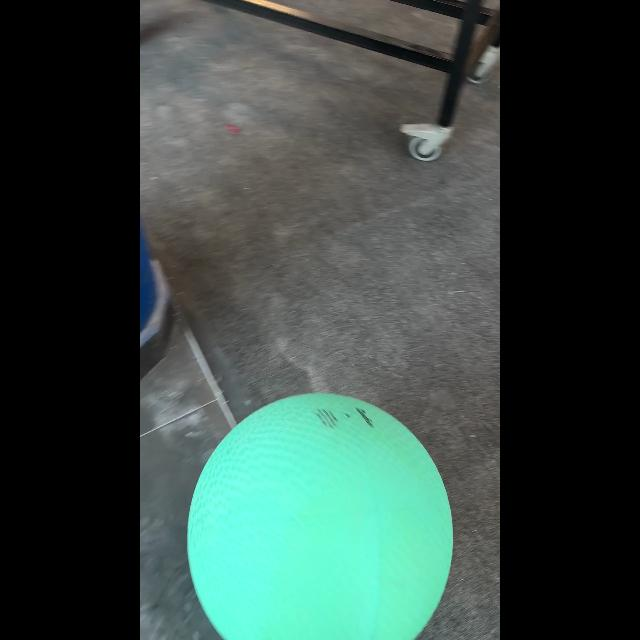ALGAE: (186, 392, 454, 638)
